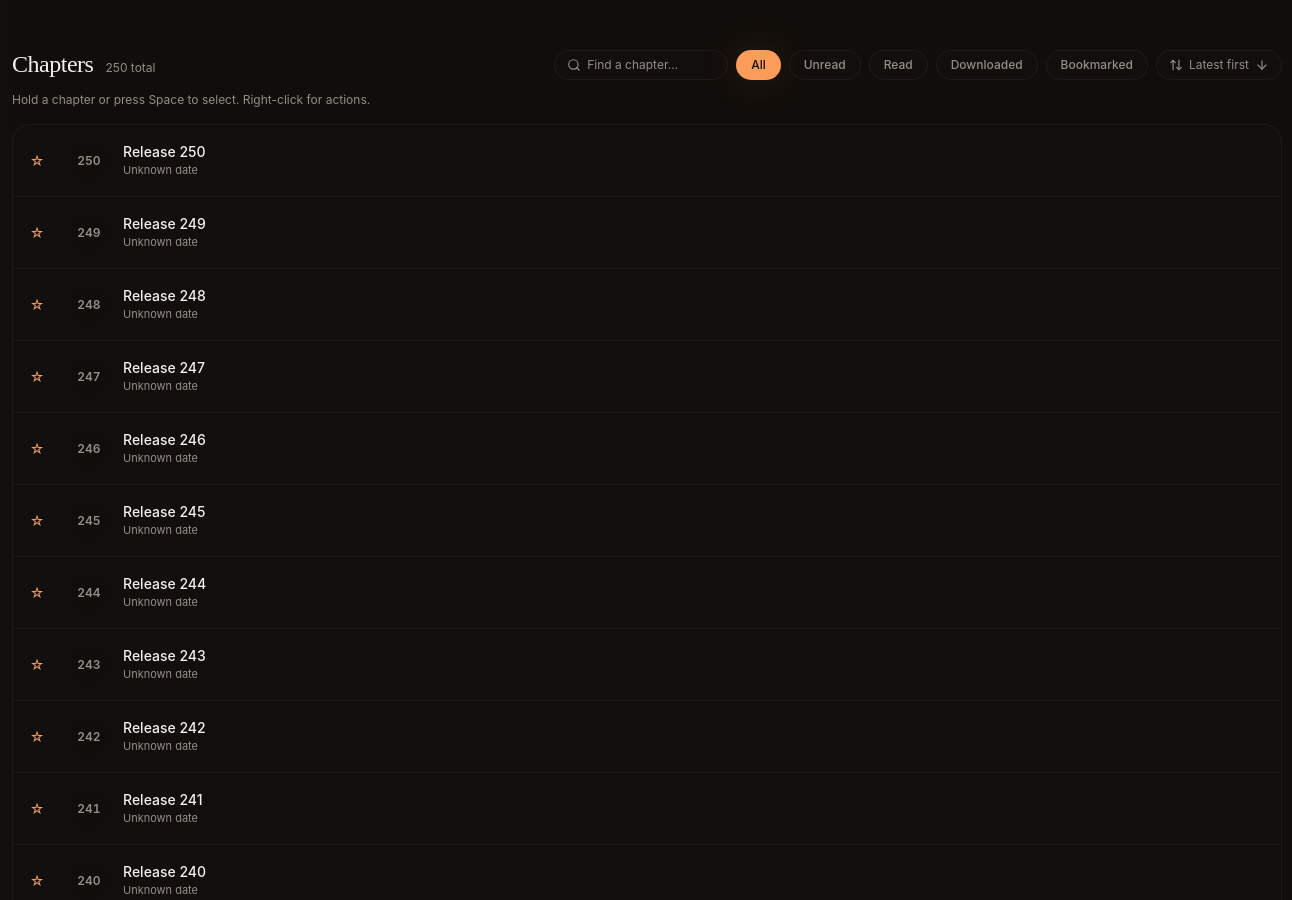
it: Source chapter filters › combines read, actual downloaded and bookmark filters without treating failed jobs as downloads
Step 1. Click the button "Downloaded" → (987, 65), box [936,50,1038,80]
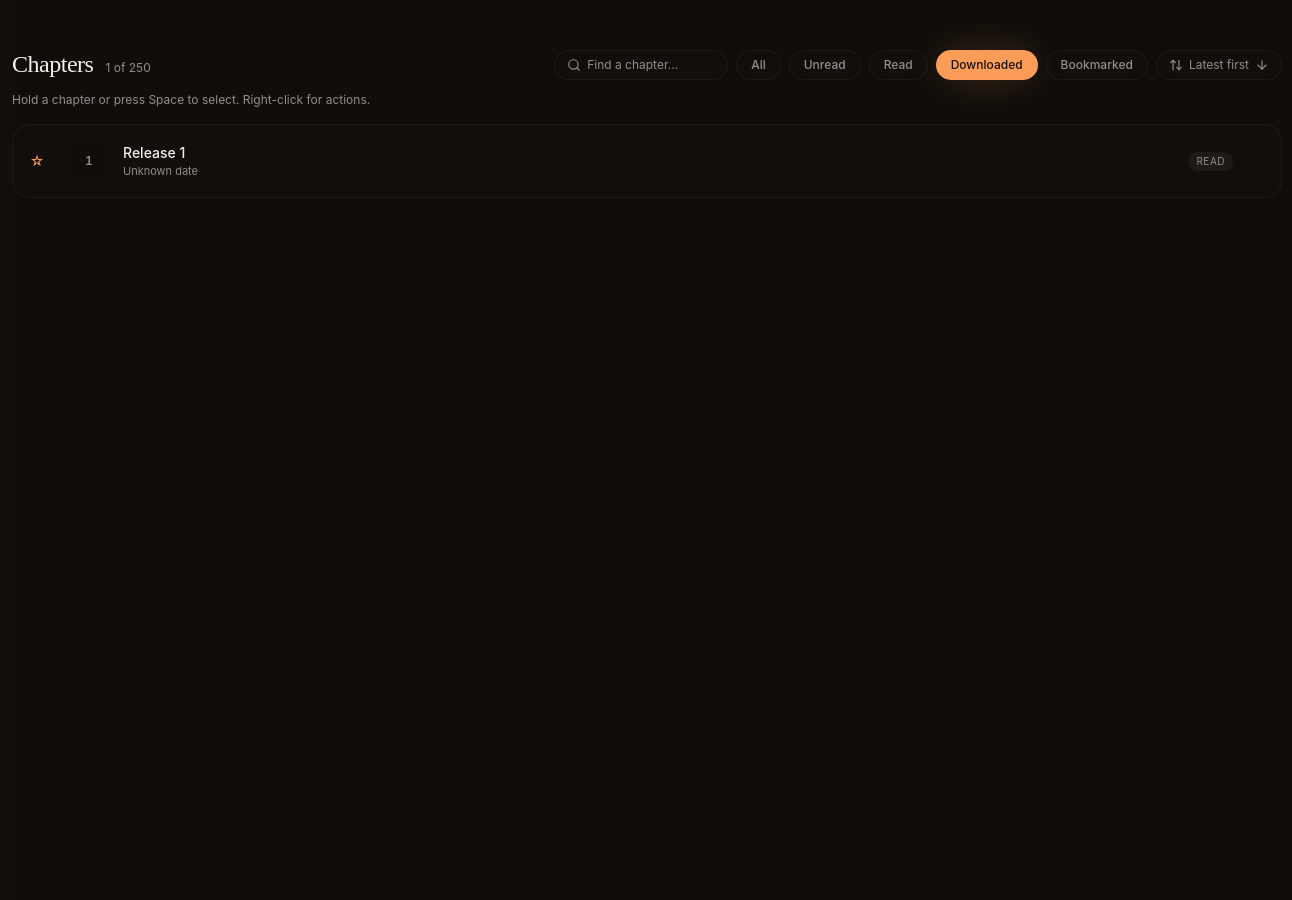
Check: the number of links is 1, box [71,143,1233,179]
Check: the link shows "Release 1", box [71,143,1233,179]
Step 2. Click the button "Bookmarked" → (1097, 65), box [1046,50,1148,80]
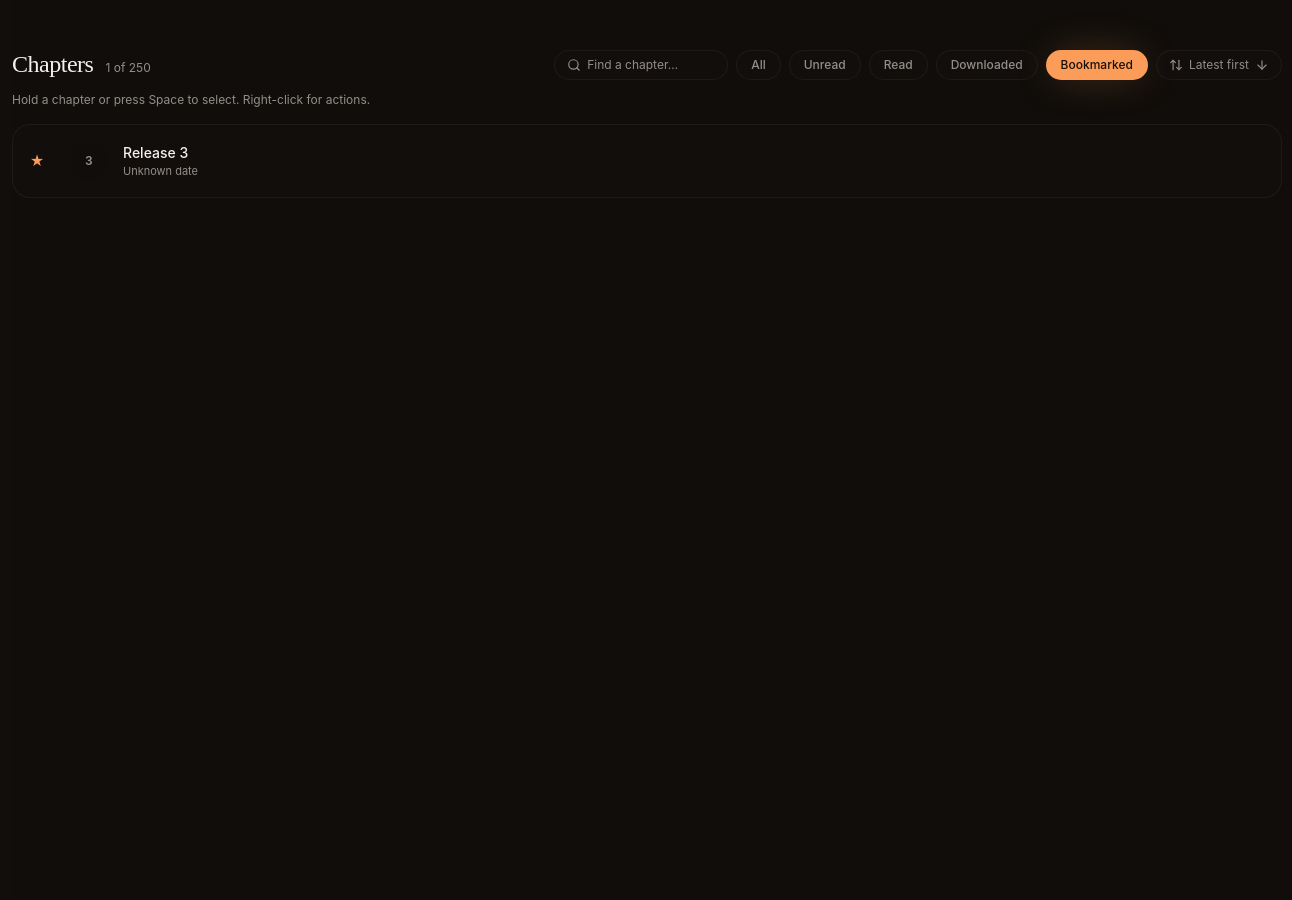
Check: the link shows "Release 3", box [71,143,198,179]
Step 3. Click the button "Read" → (898, 65), box [869,50,928,80]
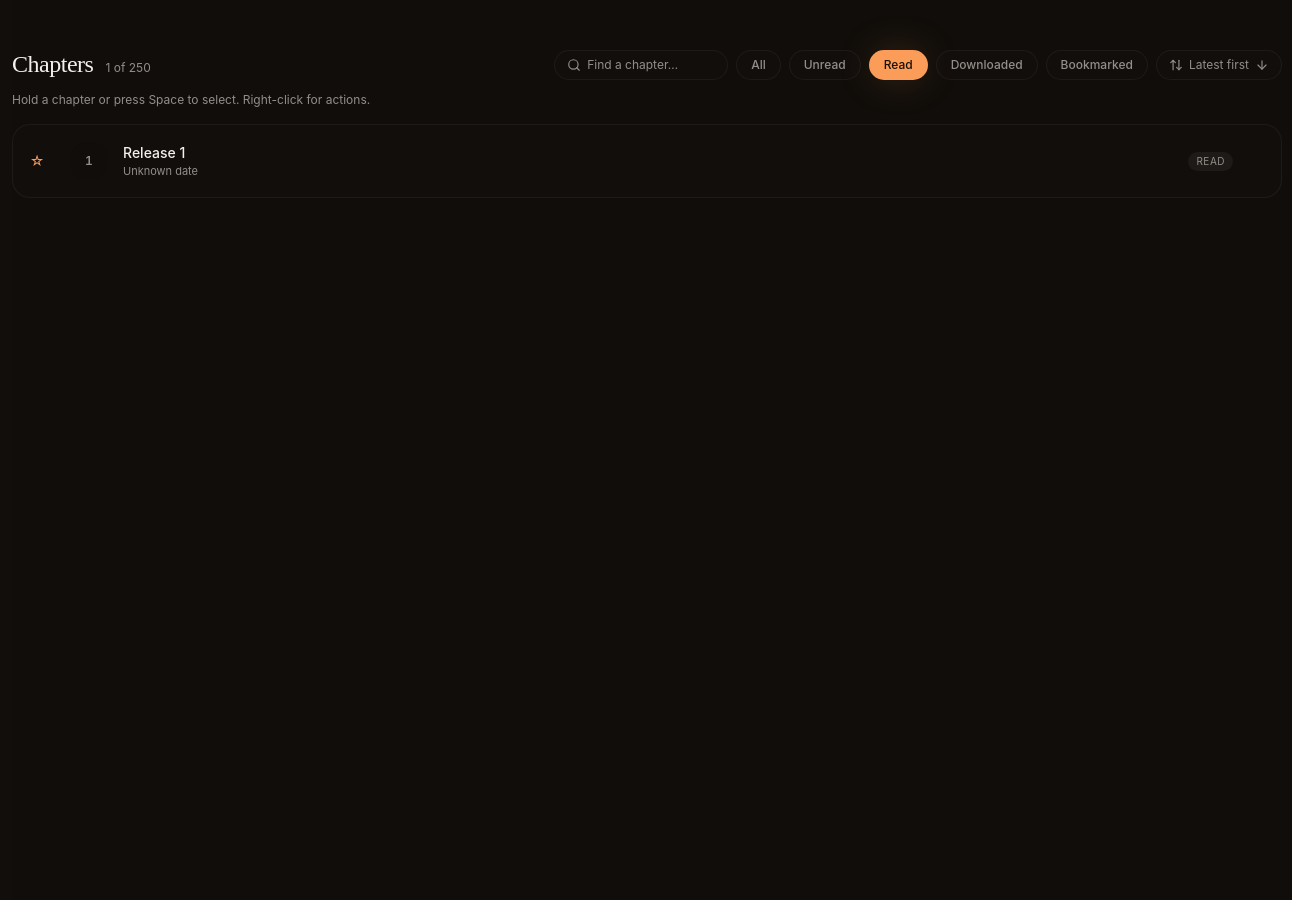
Check: the link shows "Release 1", box [71,143,1233,179]
Step 4. Click the button "Unread" → (825, 65), box [789,50,861,80]
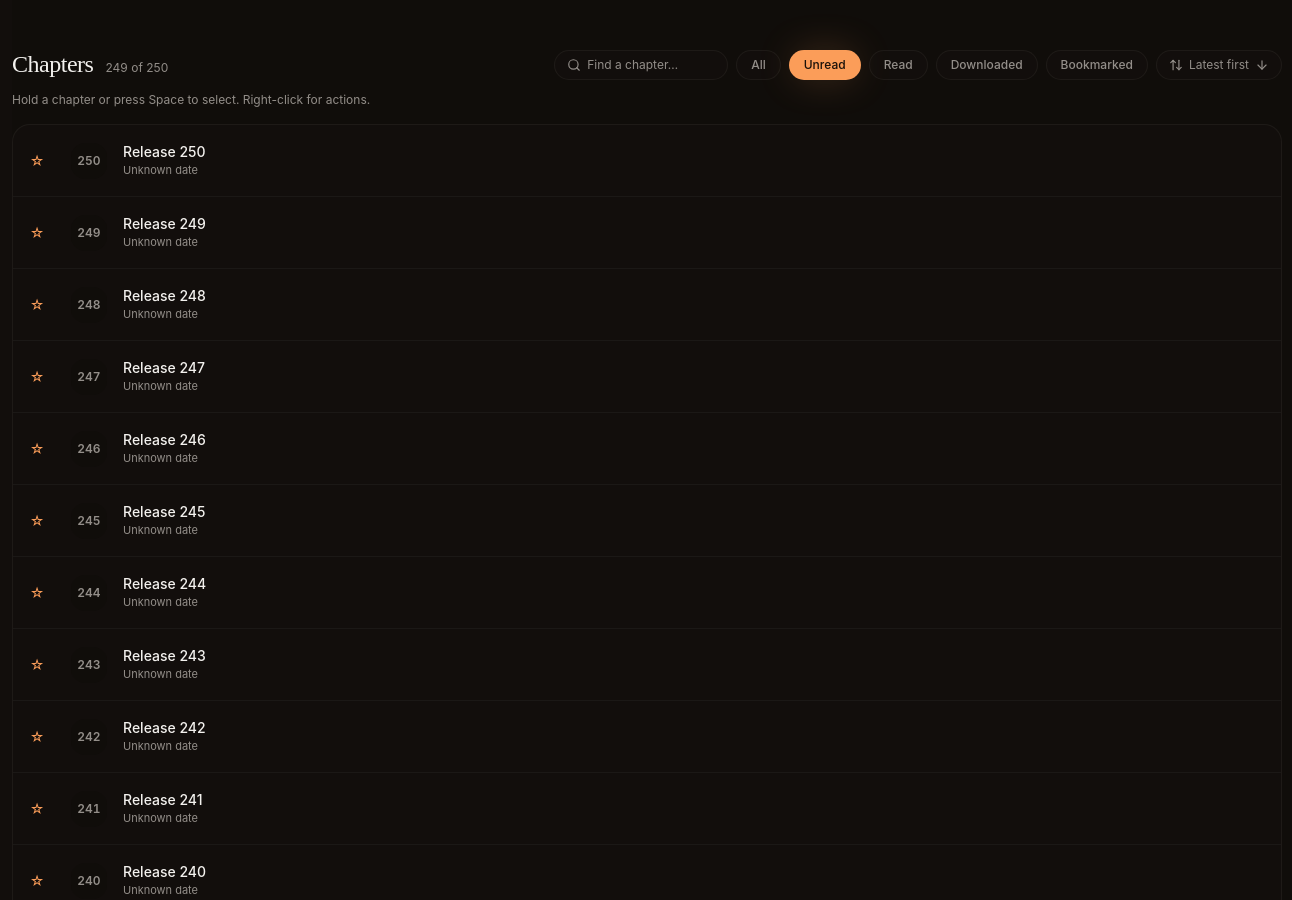
Check: the text "249 of 250" is shown, box [106,60,168,76]
Check: the link "Release 1" is gone
